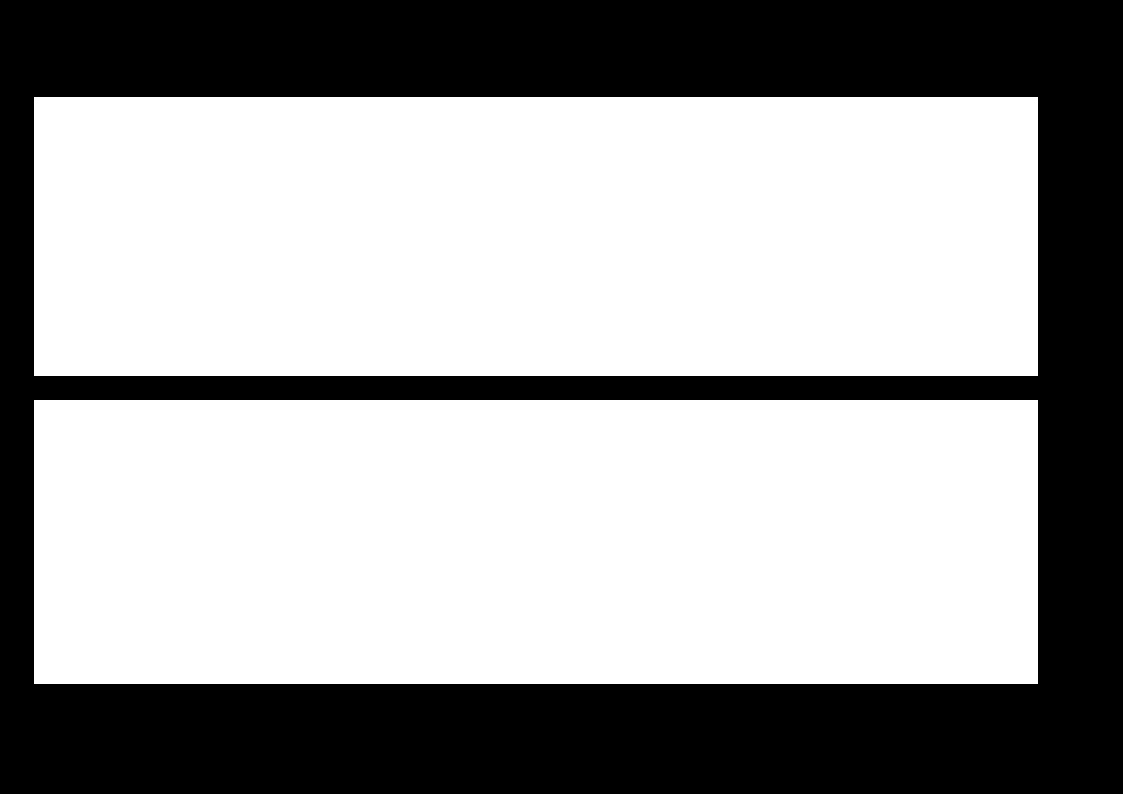table: (34, 400, 1037, 683), (34, 97, 1037, 375)
